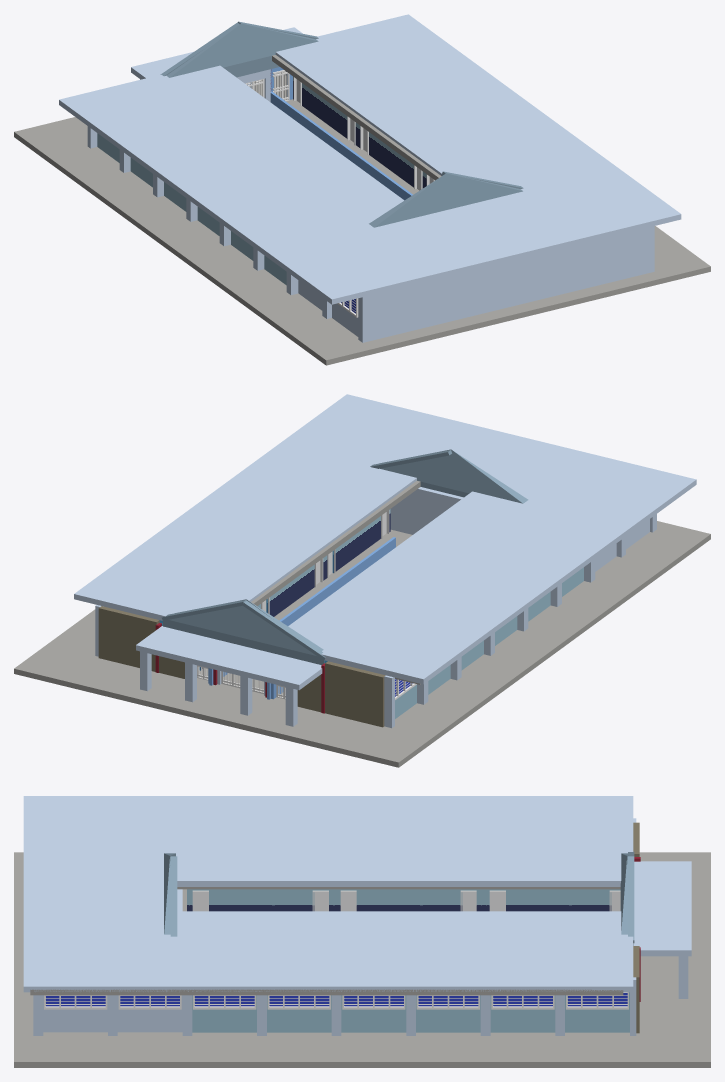
File: PIONEER 1.glb
3 views of the same model, one above another, from view 1: azimuth 30°, elevation 25°; view 2: azimuth 150°, elevation 25°; view 3: azimuth 270°, elevation 25° (orthographic). The views are drawn at different scales.
Visible parts, largest first — view 1: cube.077; view 2: cube.077; view 3: cube.077.
Boxes of the visible parts, x1=… form: cube.077: x1=14, y1=14, x2=710, y2=365; cube.077: x1=14, y1=394, x2=710, y2=767; cube.077: x1=14, y1=796, x2=710, y2=1067.
Bounding box in the file's own units: 9.56 × 2.25 × 13.44.
12 materials, 12 textured.
